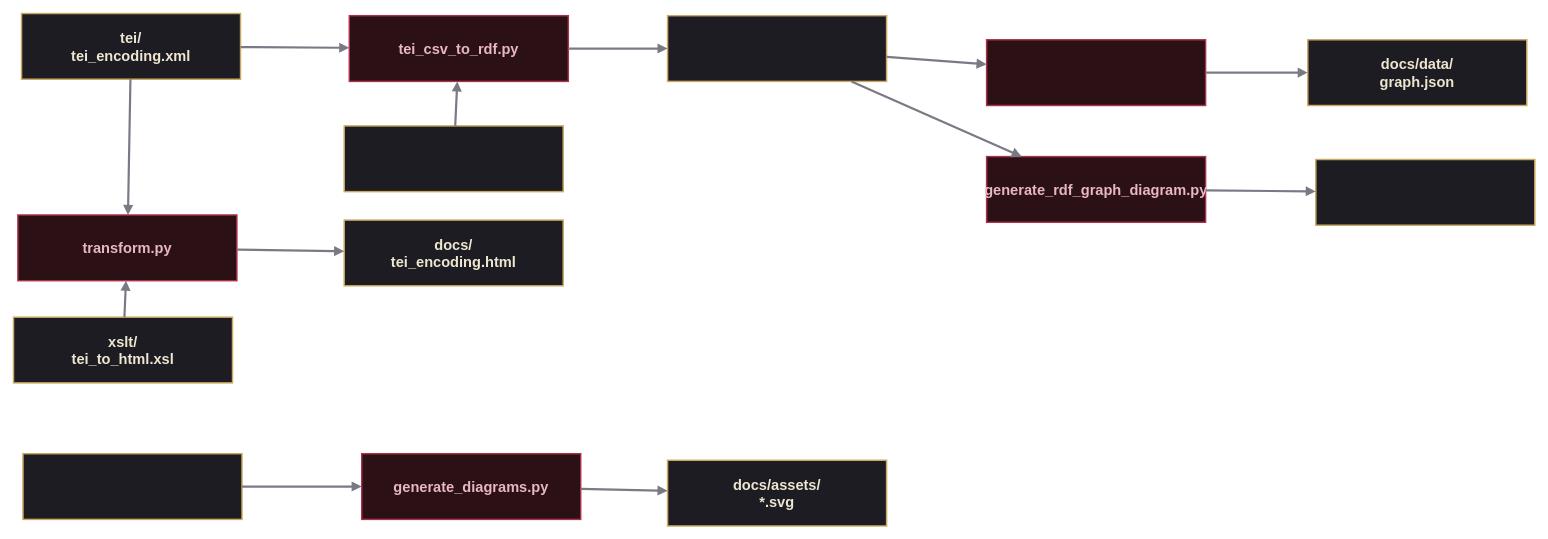
Some shapes in this 1548 by 539 pixel diagram are drawn without their labels. The centre of each missing label's shape, as x and y in pixels:
csv/*.csv: (x=453, y=158)
docs/assets/ rdf-graph.svg: (x=1425, y=192)
generate_site_data.py: (x=1096, y=72)
organization/ *.drawio: (x=132, y=486)
turtle/ ninja_merged.ttl: (x=776, y=48)
